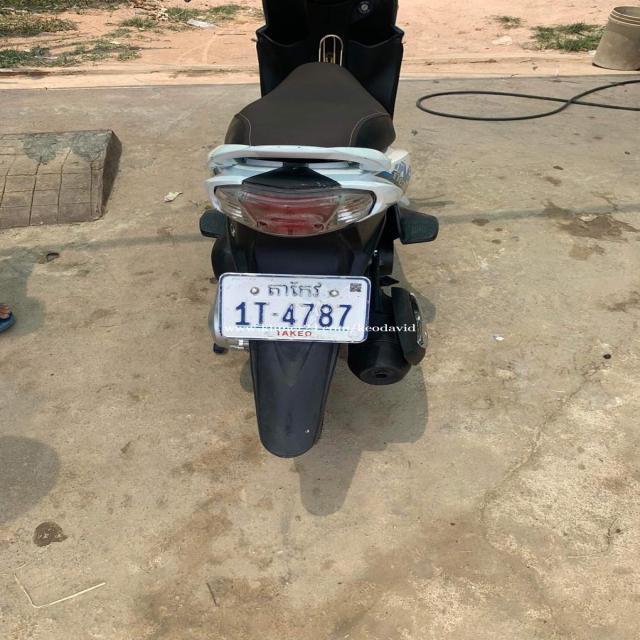Takeo: (267, 279, 328, 302)
